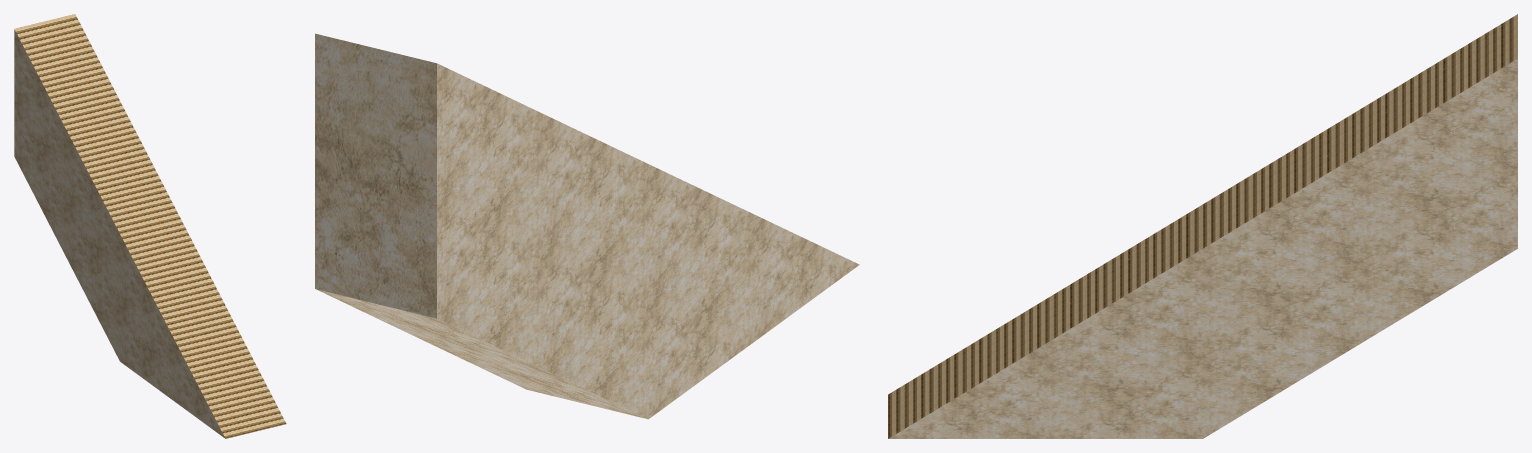
The model's file is thm_tato_imprv_stair_large_s01_l1.fbx.
3 views of the same model, side by side, from view 1: azimuth 30°, elevation 25°; view 2: azimuth 150°, elevation 25°; view 3: azimuth 270°, elevation 25° (orthographic). The views are drawn at different scales.
Parts seen in each view (by area): view 1: mesh_node; view 2: mesh_node; view 3: mesh_node.
Boxes of the visible parts, bbox=[...] form: mesh_node: bbox=[14, 14, 286, 438]; mesh_node: bbox=[315, 33, 859, 419]; mesh_node: bbox=[888, 14, 1517, 438].
Size of the model in its own units: 4 by 16 by 24.
2 materials, 2 textured.
